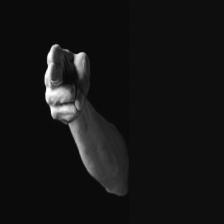two: (39, 34, 93, 134)
